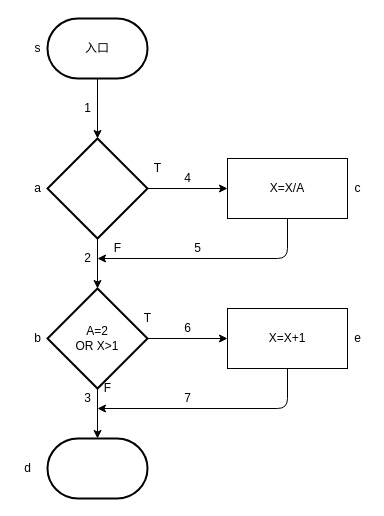
The diagram is 384 pixels wide and 516 high, and some of its shapes have lost their labels. The shapes that lost their labels are listed below. From the top down, each one's centre as x and y in pixels, then its label:
At point (97, 188): "A>1 AND B=0".
At point (97, 468): "返回".
